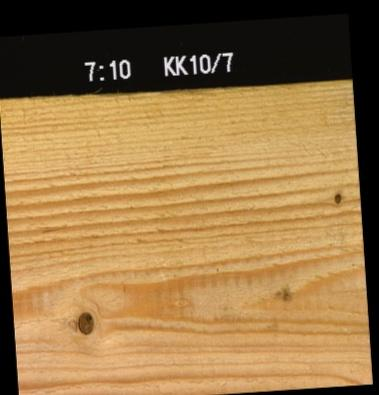dry_knot: (74, 309, 93, 334), (331, 190, 340, 204)
